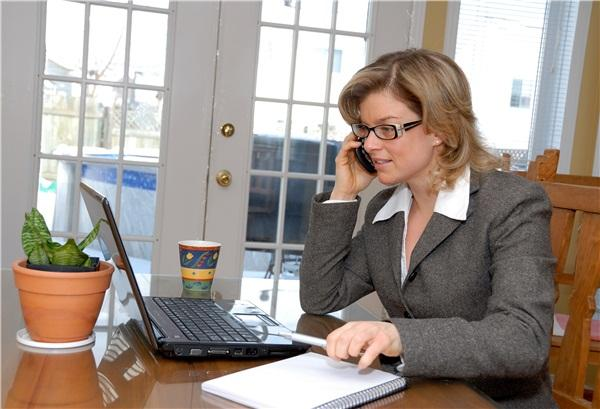calling: (333, 127, 381, 194)
